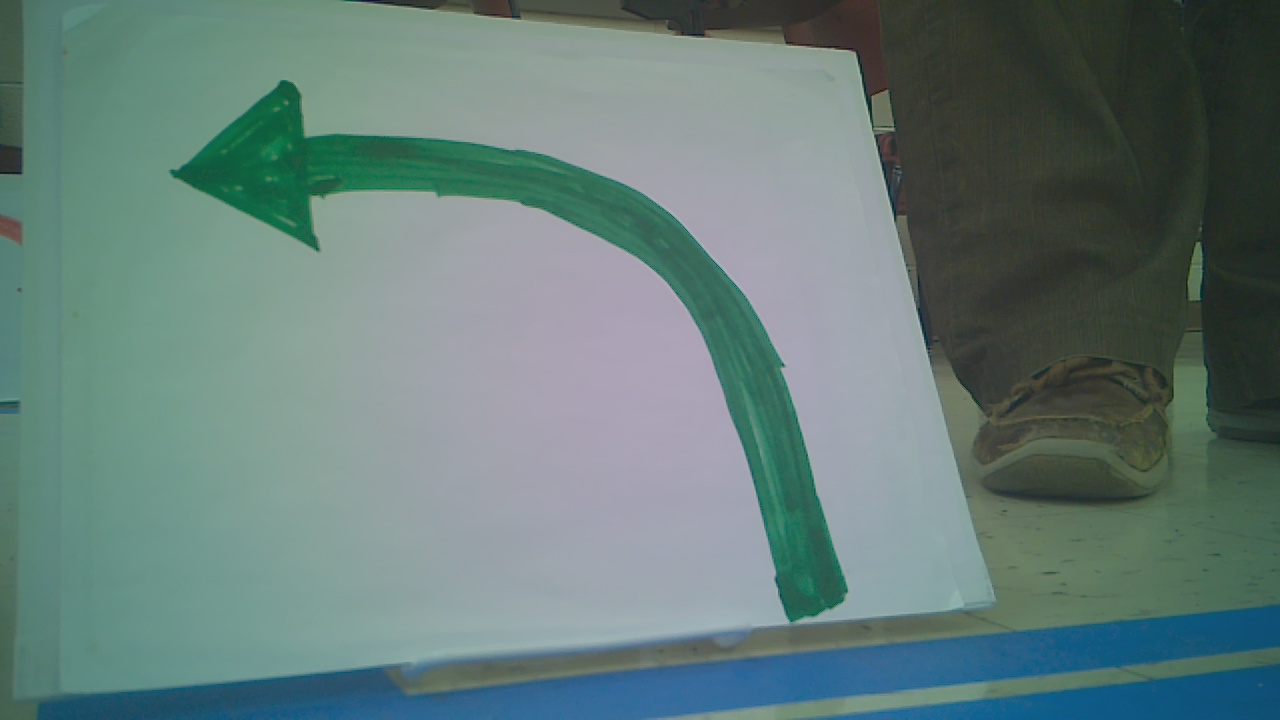left: (171, 57, 862, 627)
